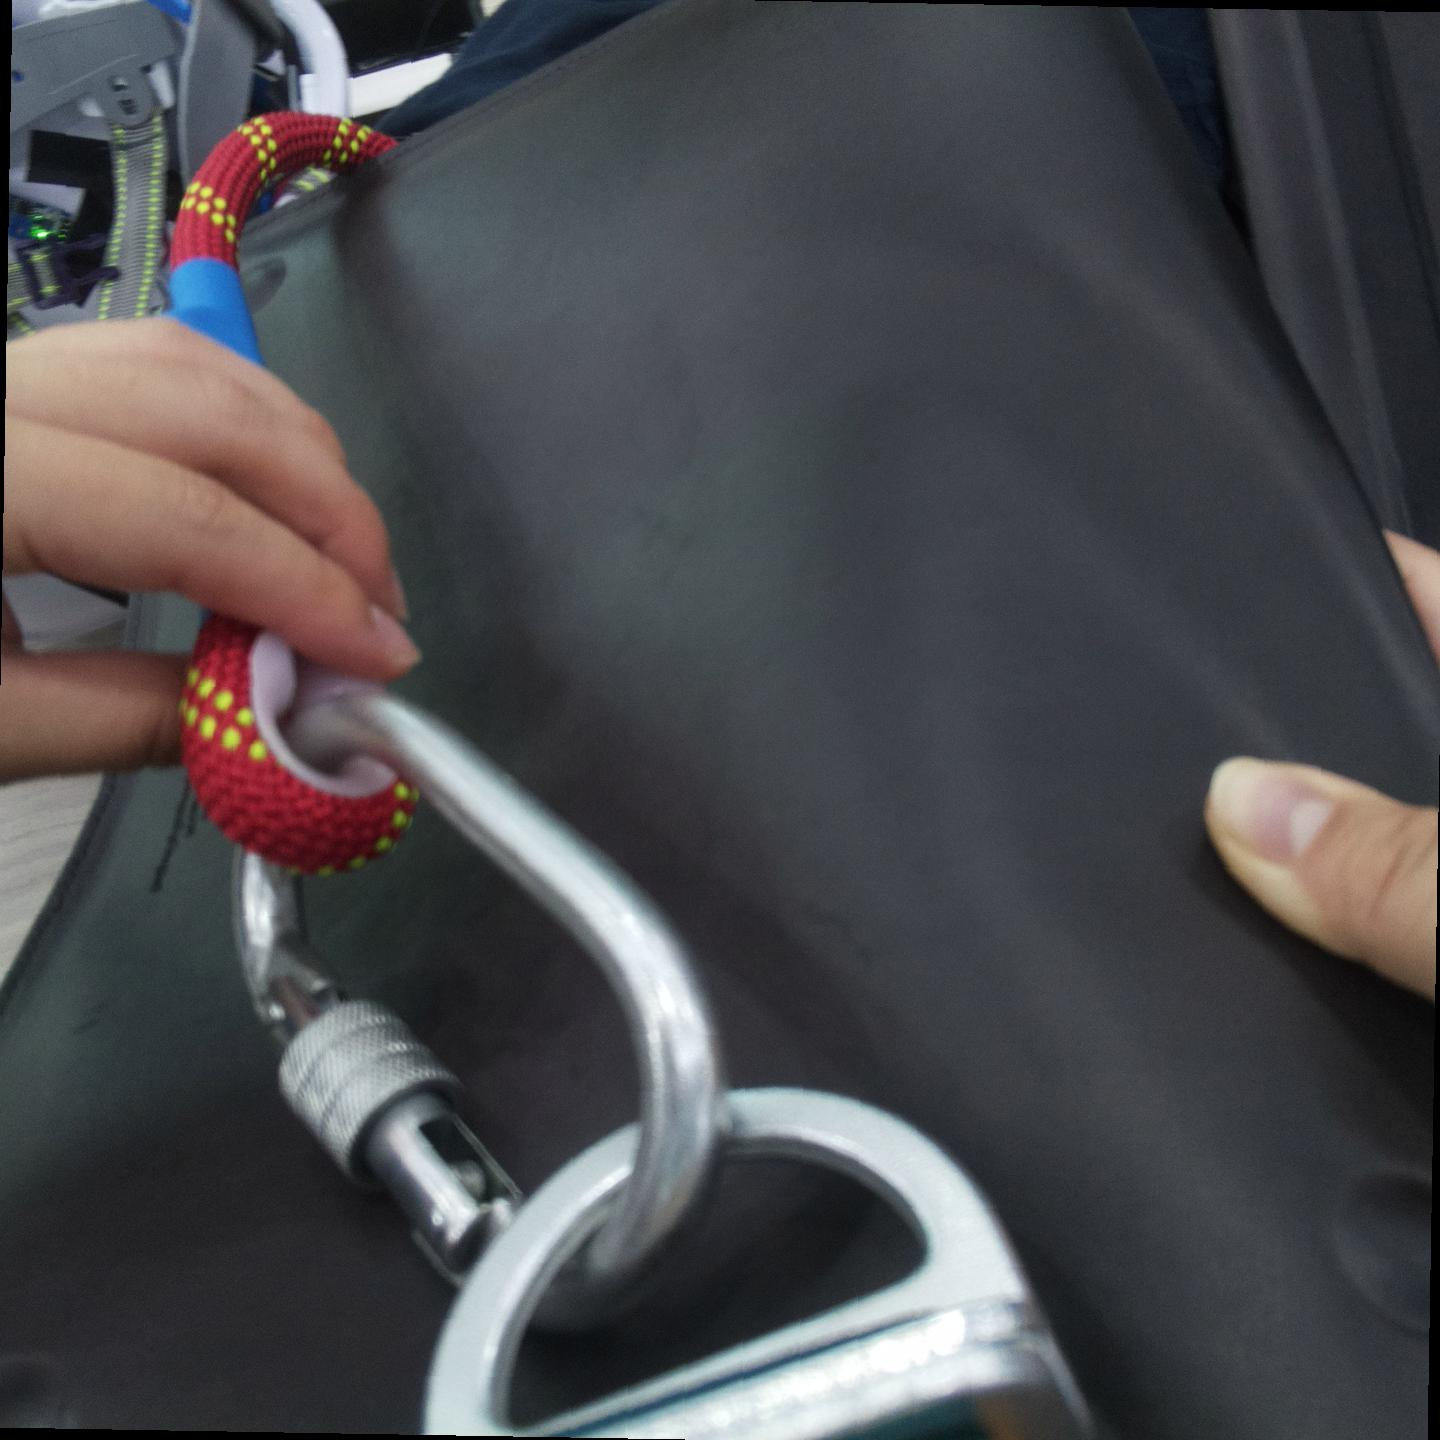SUCCESS: (381, 864, 1077, 1427)
